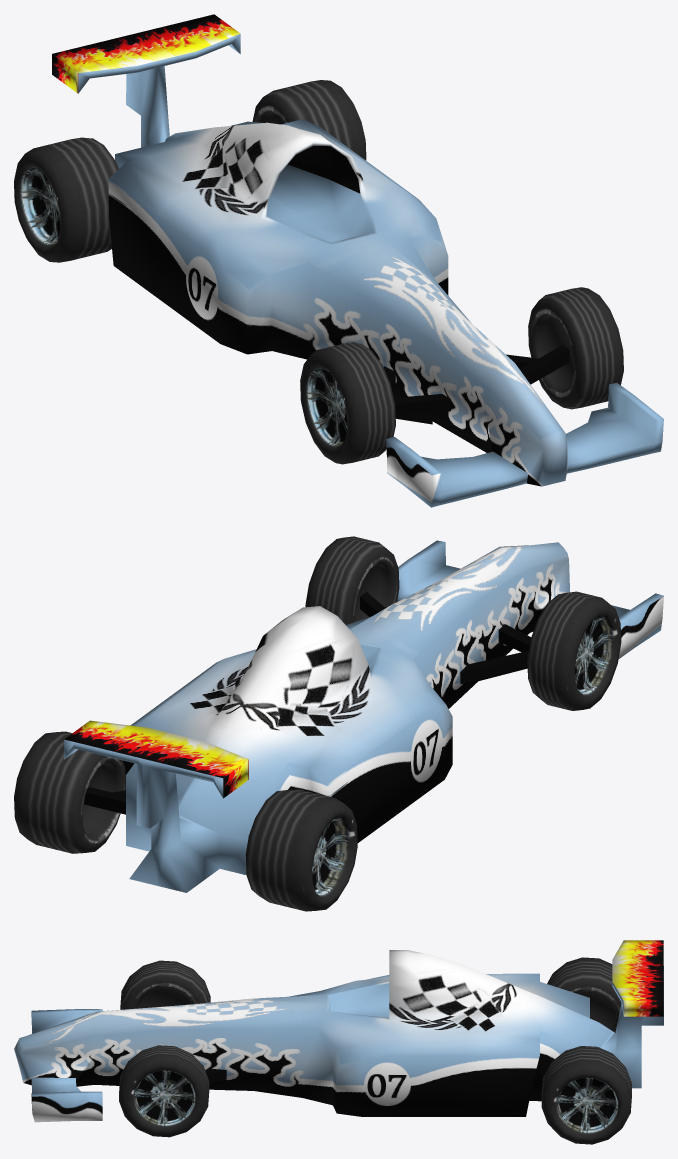
Rendered from F!_Car.fbx.
3 renders of one model, top to bottom at view 1: azimuth 30°, elevation 25°; view 2: azimuth 150°, elevation 25°; view 3: azimuth 270°, elevation 25°, orthographic. The views are drawn at different scales.
Visible parts, largest first — view 1: polySurface181, polySurface185, polySurface183, polySurface182, polySurface184, polySurface175; view 2: polySurface181, polySurface185, polySurface184, polySurface183, polySurface182, polySurface176, polySurface178, polySurface175; view 3: polySurface181, polySurface184, polySurface182, polySurface183, polySurface185.
Boxes of the visible parts, x1,y1,x2,y2 form: polySurface181: (52, 14, 663, 507); polySurface185: (14, 137, 118, 262); polySurface183: (300, 342, 395, 464); polySurface182: (528, 287, 623, 409); polySurface184: (252, 80, 366, 160); polySurface175: (394, 394, 450, 414); polySurface181: (64, 540, 663, 892); polySurface185: (245, 789, 357, 911); polySurface184: (14, 731, 125, 853); polySurface183: (527, 591, 621, 710); polySurface182: (305, 536, 399, 624); polySurface176: (460, 650, 528, 684); polySurface178: (84, 787, 125, 814); polySurface175: (498, 624, 531, 652); polySurface181: (14, 940, 663, 1122); polySurface184: (541, 1046, 631, 1144); polySurface182: (119, 1045, 209, 1137); polySurface183: (120, 960, 210, 1009); polySurface185: (547, 957, 621, 1032).
Size of the model in its own units: 7.63 by 4.34 by 18.63.
